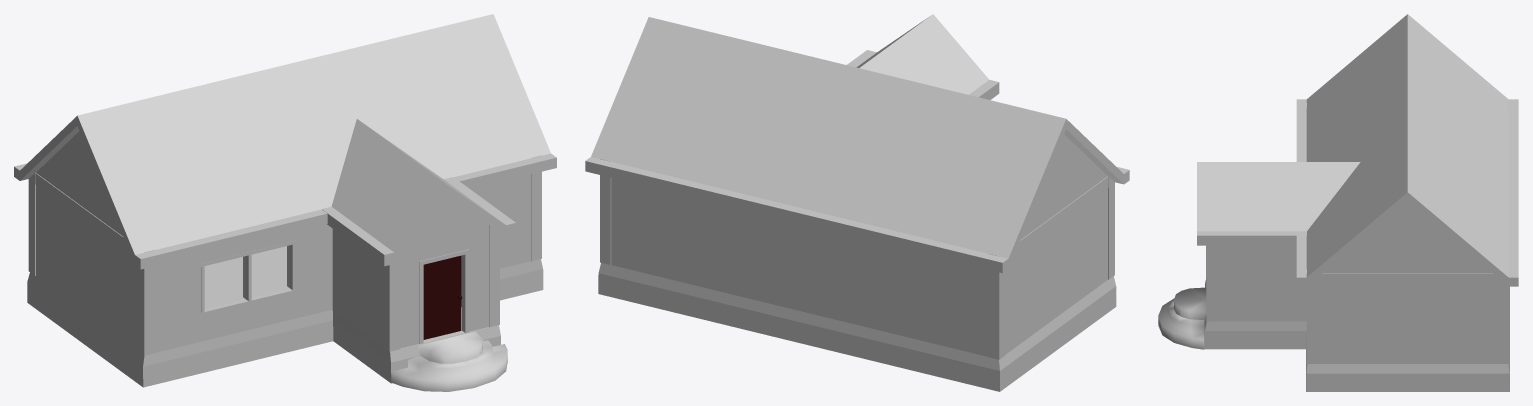
File: housemodel.fbx
The picture shows the model from 3 angles, left to right: view 1: azimuth 30°, elevation 25°; view 2: azimuth 150°, elevation 25°; view 3: azimuth 270°, elevation 25°; orthographic projection. The views are drawn at different scales.
Visible parts, largest first — view 1: Cube.016, Plane, Cube.002, Cube.017, Cube, Cube.005, Circle, Cube.004, Cube.021, Cube.007, Cube.010, Cube.015 (+6 smaller); view 2: Cube.016, Plane, Cube.009, Cube.001, Cube.002, Cube.017, Cube.014, Cube.026, Cube.013, Cube.015; view 3: Cube.016, Cube.008, Cube.017, Plane, Cube.006, Circle, Cube.025, Cube.012, Cube.013, Cube.011.
Part boxes in pixels (x1=…): Cube.016: x1=14, y1=14, x2=556, y2=269; Plane: x1=27, y1=246, x2=543, y2=387; Cube.002: x1=36, y1=131, x2=137, y2=350; Cube.017: x1=322, y1=119, x2=515, y2=266; Cube: x1=155, y1=224, x2=332, y2=352; Cube.005: x1=400, y1=198, x2=488, y2=348; Circle: x1=391, y1=331, x2=507, y2=391; Cube.004: x1=332, y1=229, x2=383, y2=345; Cube.021: x1=423, y1=255, x2=462, y2=339; Cube.007: x1=470, y1=174, x2=530, y2=268; Cube.010: x1=383, y1=257, x2=400, y2=351; Cube.015: x1=138, y1=250, x2=154, y2=355; Cube.016: x1=585, y1=17, x2=1129, y2=273; Plane: x1=598, y1=262, x2=1116, y2=391; Cube.009: x1=611, y1=178, x2=799, y2=310; Cube.001: x1=800, y1=224, x2=988, y2=356; Cube.002: x1=1005, y1=134, x2=1107, y2=354; Cube.017: x1=847, y1=14, x2=999, y2=99; Cube.014: x1=988, y1=253, x2=1005, y2=359; Cube.026: x1=1013, y1=176, x2=1108, y2=256; Cube.013: x1=600, y1=158, x2=611, y2=264; Cube.015: x1=1108, y1=176, x2=1114, y2=279; Cube.016: x1=1296, y1=14, x2=1518, y2=286; Cube.008: x1=1317, y1=201, x2=1497, y2=363; Cube.017: x1=1197, y1=162, x2=1360, y2=245; Plane: x1=1204, y1=279, x2=1509, y2=391; Cube.006: x1=1217, y1=245, x2=1306, y2=321; Circle: x1=1158, y1=287, x2=1206, y2=349; Cube.025: x1=1317, y1=273, x2=1497, y2=283; Cube.012: x1=1306, y1=269, x2=1317, y2=363; Cube.013: x1=1498, y1=269, x2=1508, y2=363; Cube.011: x1=1206, y1=245, x2=1216, y2=321.
Size of what is drawn, in the model's own units: 4200 by 2234 by 3592.
